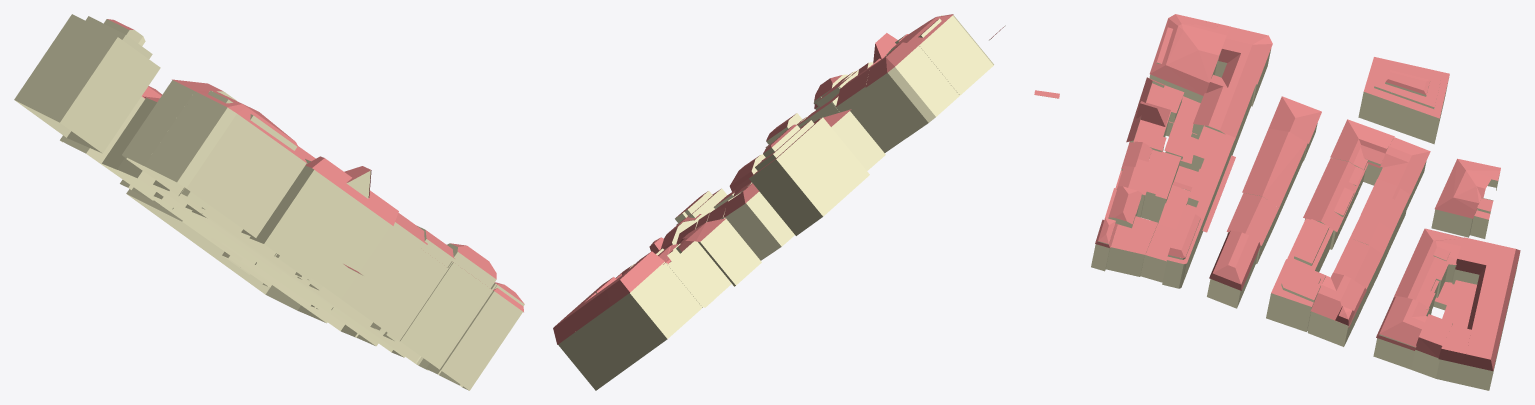
Rendered from tile_043.glb.
3 views of the same model, side by side, from view 1: azimuth 30°, elevation 25°; view 2: azimuth 150°, elevation 25°; view 3: azimuth 270°, elevation 25° (orthographic). The views are drawn at different scales.
Visible parts, largest first — view 1: Batched_Building_ID_62296801-CCA0-460A-BD0E-AEB4B045AE0F, Batched_Building_ID_8F10D6DF-7B78-4D43-A8C0-587B2B5494D4; view 2: Batched_Building_ID_62296801-CCA0-460A-BD0E-AEB4B045AE0F, Batched_Building_ID_8F10D6DF-7B78-4D43-A8C0-587B2B5494D4; view 3: Batched_Building_ID_8F10D6DF-7B78-4D43-A8C0-587B2B5494D4, Batched_Building_ID_62296801-CCA0-460A-BD0E-AEB4B045AE0F.
Boxes of the visible parts, bbox=[...] form: Batched_Building_ID_62296801-CCA0-460A-BD0E-AEB4B045AE0F: bbox=[14, 14, 524, 390]; Batched_Building_ID_8F10D6DF-7B78-4D43-A8C0-587B2B5494D4: bbox=[107, 19, 524, 312]; Batched_Building_ID_62296801-CCA0-460A-BD0E-AEB4B045AE0F: bbox=[558, 15, 1005, 390]; Batched_Building_ID_8F10D6DF-7B78-4D43-A8C0-587B2B5494D4: bbox=[553, 14, 1004, 344]; Batched_Building_ID_8F10D6DF-7B78-4D43-A8C0-587B2B5494D4: bbox=[1034, 14, 1520, 371]; Batched_Building_ID_62296801-CCA0-460A-BD0E-AEB4B045AE0F: bbox=[1042, 49, 1519, 390].
Bounding box in the file's own units: 120 × 127 × 195.
